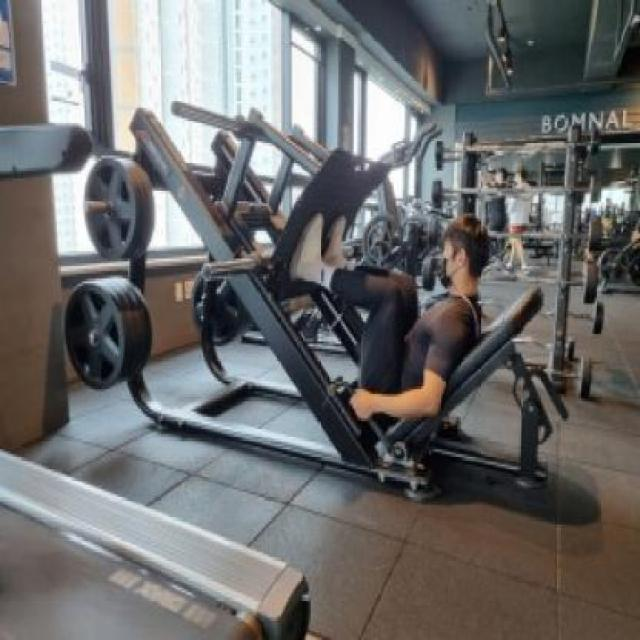leg press: (49, 86, 589, 529)
